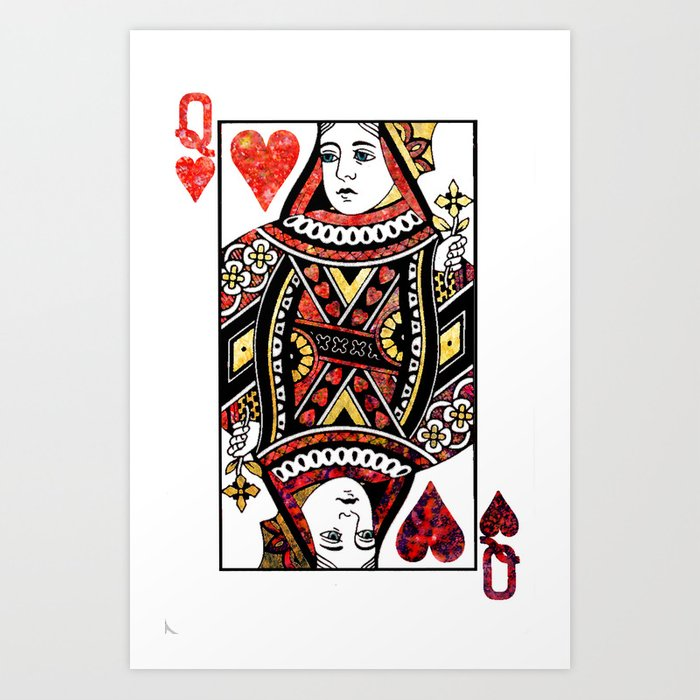queen of hearts: (159, 73, 541, 628)
